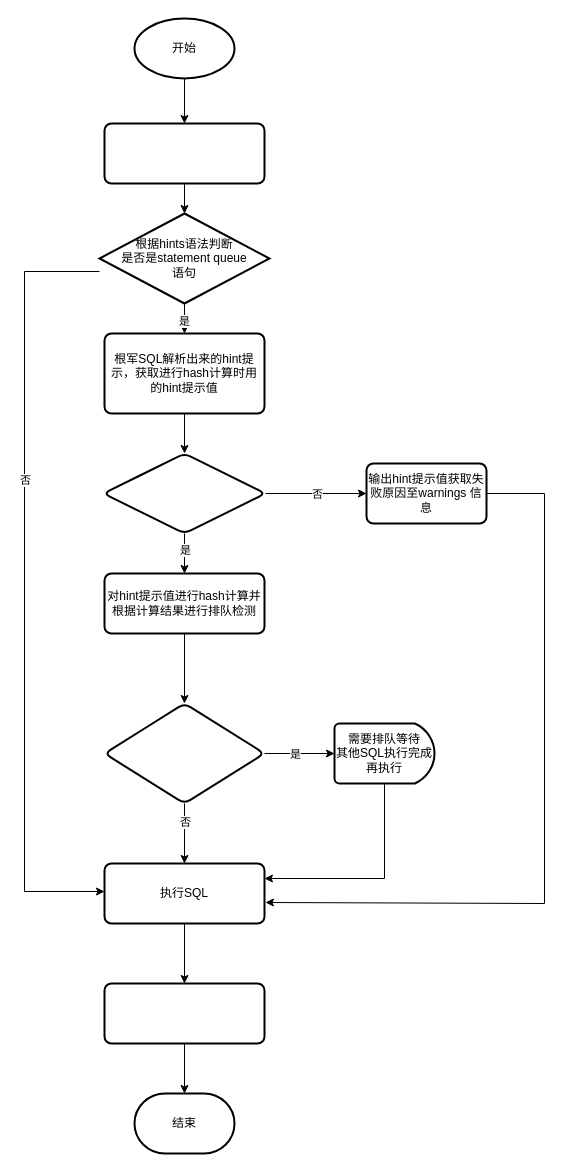
This 570x1171 diagram has some shape labels left out. Each missing label, with the box of its shape:
SQL 执行完成,通知排队队列下一个SQL可以执行: (103, 982, 265, 1044)
是否需要排队等待: (103, 702, 265, 804)
获取hint提示值 是否正确: (102, 452, 266, 534)
解析用户输入SQL: (103, 122, 265, 184)
